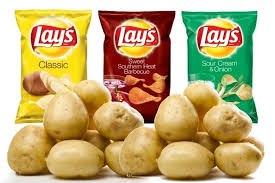lays-med: (12, 11, 89, 125), (96, 8, 174, 106), (185, 8, 251, 84)
